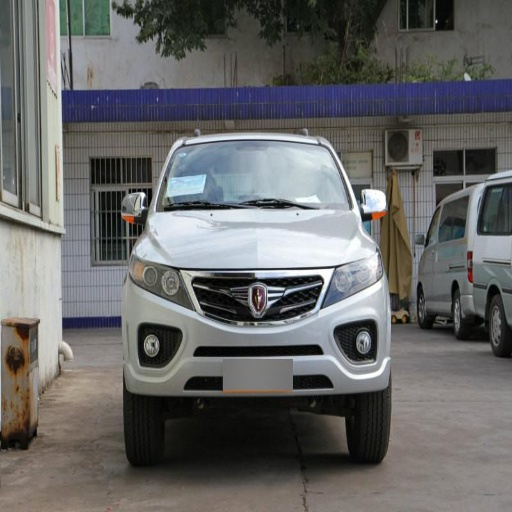front_bumper: (126, 266, 392, 399)
front_right_light: (130, 255, 185, 303)
hood: (143, 210, 373, 268)
